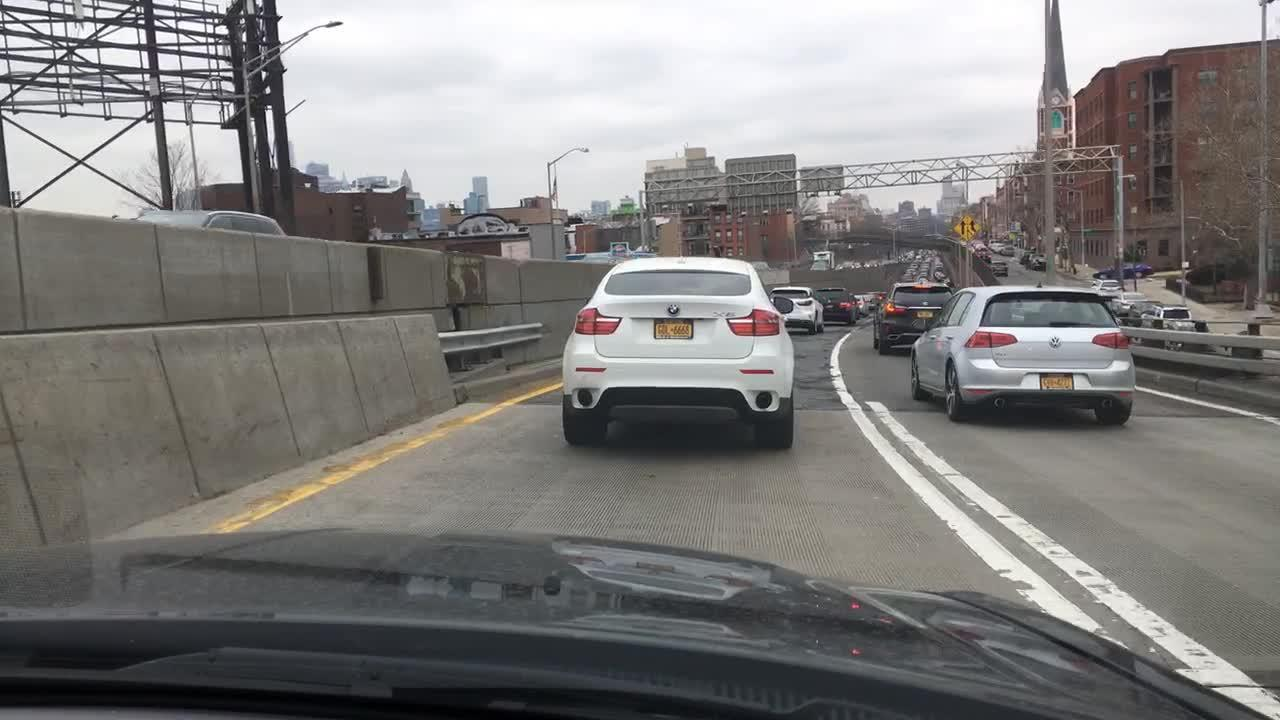Volkswagen: (1049, 336, 1064, 352)
bmw: (660, 296, 695, 328)
